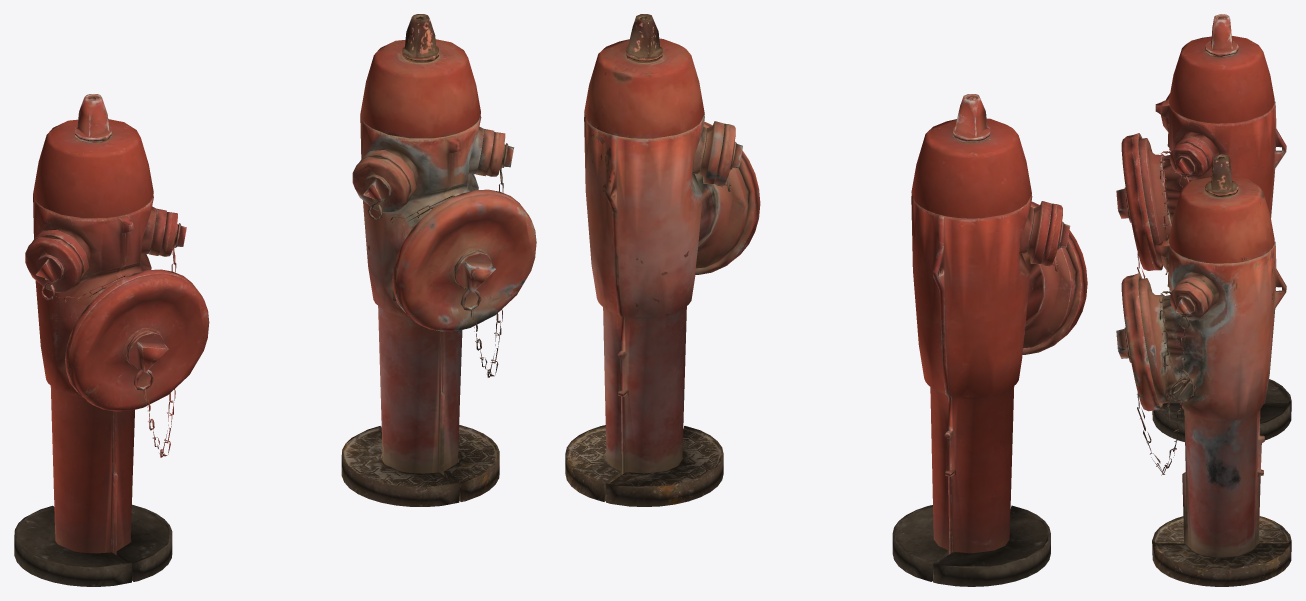
Rendered from fire_hydrant.glb.
3 renders of one model, left to right at view 1: azimuth 30°, elevation 25°; view 2: azimuth 150°, elevation 25°; view 3: azimuth 270°, elevation 25°, orthographic. The views are drawn at different scales.
Parts seen in each view (by area): view 1: fire_hydrant, fire_hydrant_aged; view 2: fire_hydrant_aged, fire_hydrant; view 3: fire_hydrant_aged, fire_hydrant.
Part boxes in pixels (left/top/right/bottom): fire_hydrant: left=14, top=94, right=209, bottom=586; fire_hydrant_aged: left=341, top=14, right=536, bottom=506; fire_hydrant_aged: left=565, top=14, right=760, bottom=506; fire_hydrant: left=892, top=94, right=1087, bottom=586; fire_hydrant_aged: left=1116, top=154, right=1291, bottom=586; fire_hydrant: left=1116, top=14, right=1291, bottom=441.
Bounding box in the file's own units: 0.8745 × 0.7994 × 0.3173.
Materials: 2 (2 with a texture image).
